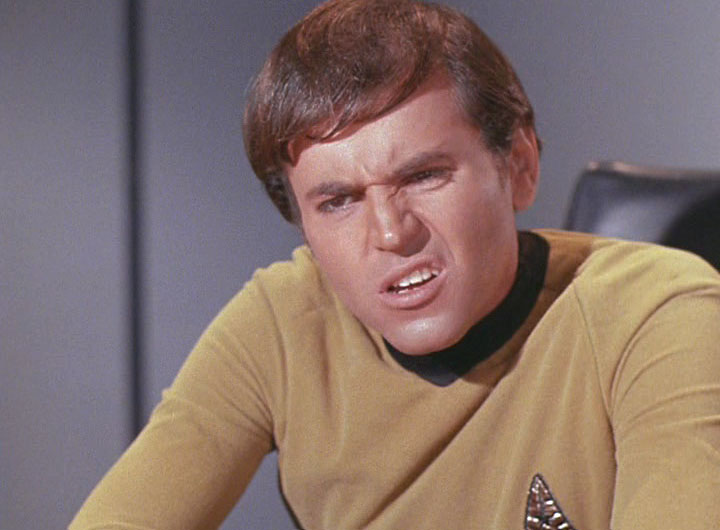confused: (281, 126, 508, 365)
